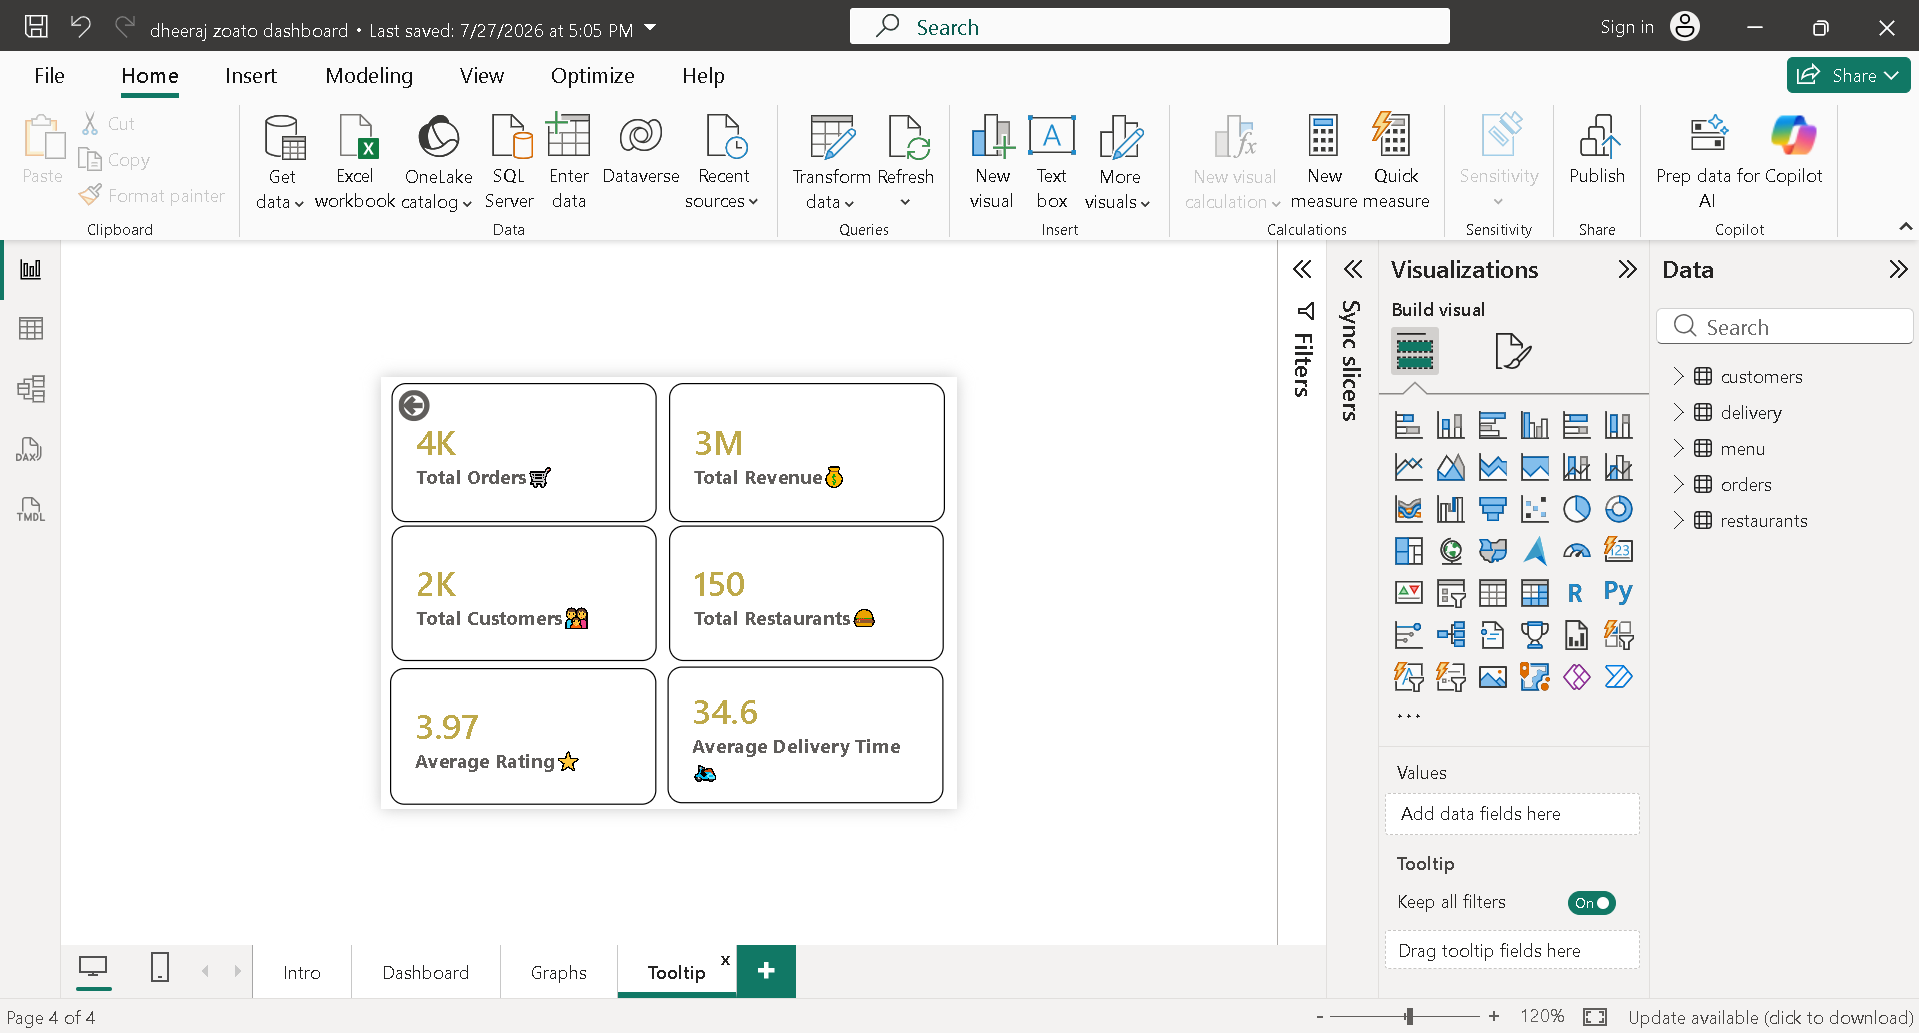

The page's visual inventory and layout, read from the dashboard file:
{"tool":"powerbi","page":{"name":"Tooltip","canvas":[320,240],"ordinal":3},"visuals":[{"type":"cardVisual","fields":{"Data":["Avg(restaurants.Rating)"]},"box":[840,386,280,280],"z":0},{"type":"cardVisual","fields":{"Data":["Avg(restaurants.Rating)"]},"box":[432,386,280,280],"z":1000},{"type":"cardVisual","fields":{"Data":["Avg(restaurants.Rating)"]},"box":[68,404,280,280],"z":2000},{"type":"cardVisual","fields":{"Data":["Avg(restaurants.Rating)"]},"box":[432,80,280,280],"z":3000},{"type":"cardVisual","fields":{"Data":["Avg(restaurants.Rating)"]},"box":[840,80,280,280],"z":4000},{"type":"cardVisual","fields":{"Data":["orders.Total Orders"]},"box":[6,3,147,77],"z":5000},{"type":"cardVisual","fields":{"Data":["customers.Total Revenue"]},"box":[160,3,153,77],"z":6000},{"type":"cardVisual","fields":{"Data":["customers.Total Customers"]},"box":[5.9,82.7,147.3,75],"z":7000},{"type":"cardVisual","fields":{"Data":["menu.avg rating"]},"box":[5,161.4,148.2,75.9],"z":8000},{"type":"cardVisual","fields":{"Data":["menu.Total Restaurants"]},"box":[160,82.7,152.7,75],"z":9000},{"type":"cardVisual","fields":{"Data":["delivery.Avg d time"]},"box":[159.5,160.9,153.2,75.9],"z":10000},{"type":"actionButton","box":[6,3,32,25],"z":10001}]}

Visuals, with their boxes on the page's 320x240 design canvas (x1, y1, x2, y2). These are canvas units, not pixel positions in the 1919x1033 screenshot, which may show the page scaled, cropped or inside an application window:
cardVisual - Avg(restaurants.Rating): [x1=840, y1=386, x2=1120, y2=666]
cardVisual - Avg(restaurants.Rating): [x1=432, y1=386, x2=712, y2=666]
cardVisual - Avg(restaurants.Rating): [x1=68, y1=404, x2=348, y2=684]
cardVisual - Avg(restaurants.Rating): [x1=432, y1=80, x2=712, y2=360]
cardVisual - Avg(restaurants.Rating): [x1=840, y1=80, x2=1120, y2=360]
cardVisual - orders.Total Orders: [x1=6, y1=3, x2=153, y2=80]
cardVisual - customers.Total Revenue: [x1=160, y1=3, x2=313, y2=80]
cardVisual - customers.Total Customers: [x1=6, y1=83, x2=153, y2=158]
cardVisual - menu.avg rating: [x1=5, y1=161, x2=153, y2=237]
cardVisual - menu.Total Restaurants: [x1=160, y1=83, x2=313, y2=158]
cardVisual - delivery.Avg d time: [x1=160, y1=161, x2=313, y2=237]
actionButton: [x1=6, y1=3, x2=38, y2=28]
